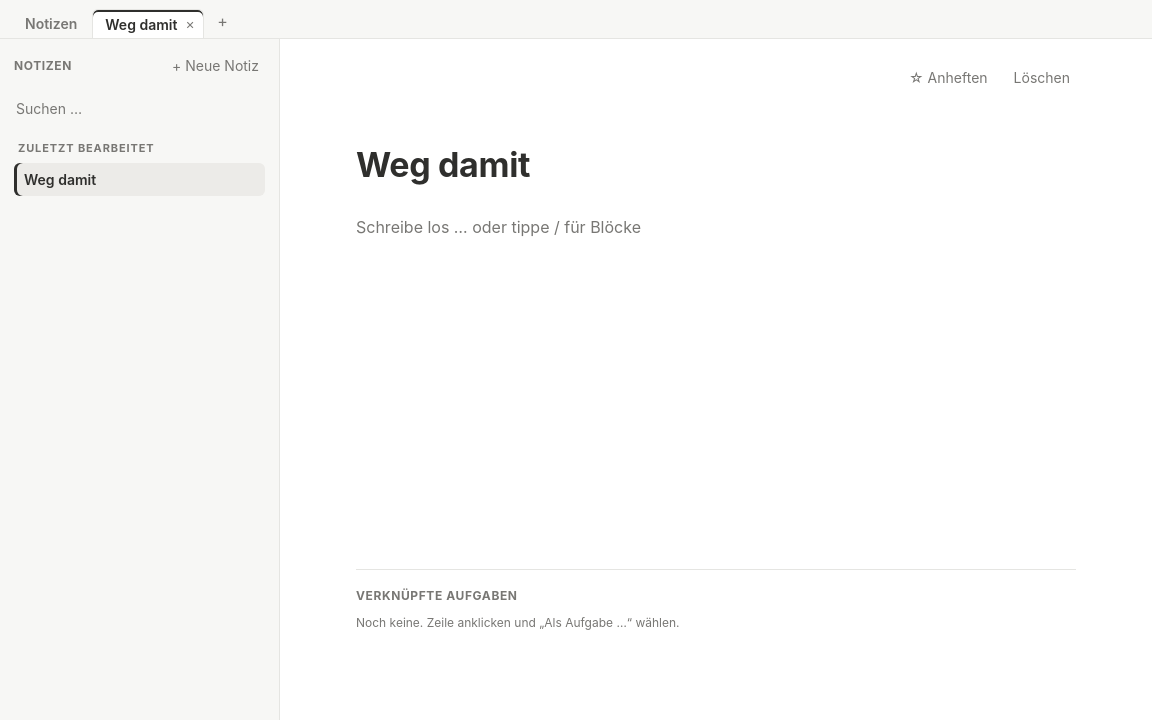
Test: NotizenView › loescht eine Notiz und stellt sie mit Rückgängig wieder her
Click the button "Löschen" at (1042, 78), box x1=1008 y1=67 x2=1076 y2=88
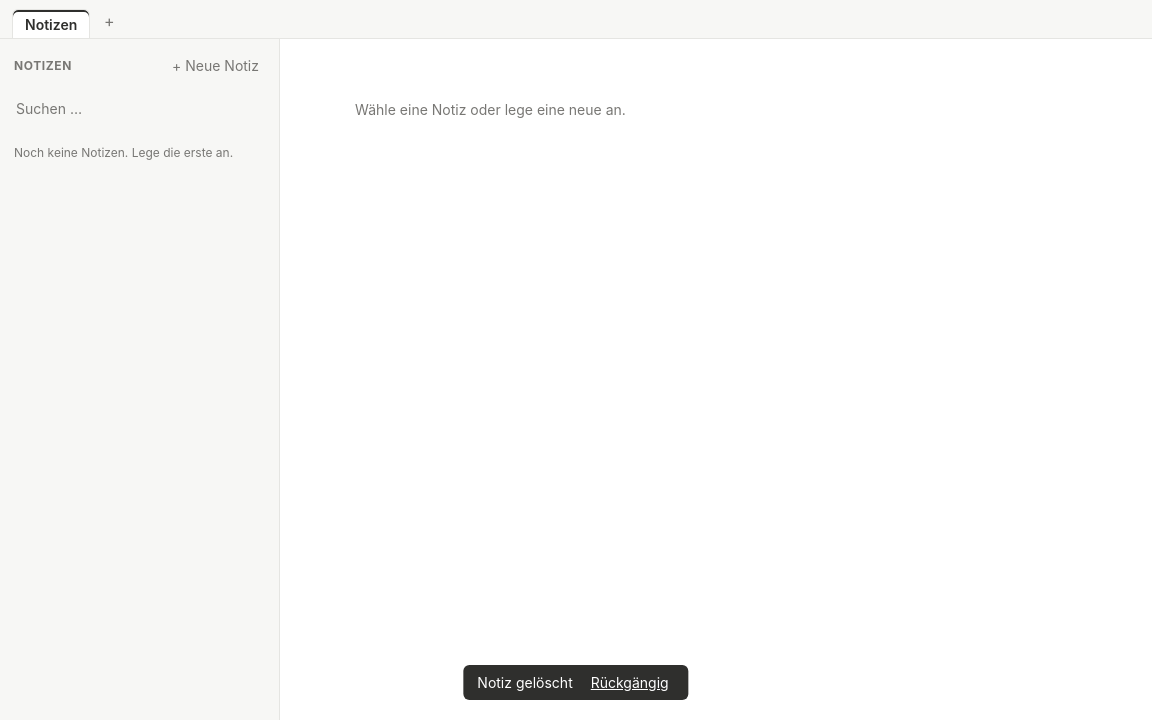
Now the message shows "Notiz gelöscht", box x1=477 y1=674 x2=573 y2=691
Now the text "Wähle eine Notiz oder lege eine neue an." is shown, box x1=355 y1=101 x2=626 y2=118
Click the button "Rückgängig" at (630, 682), box x1=585 y1=673 x2=675 y2=692
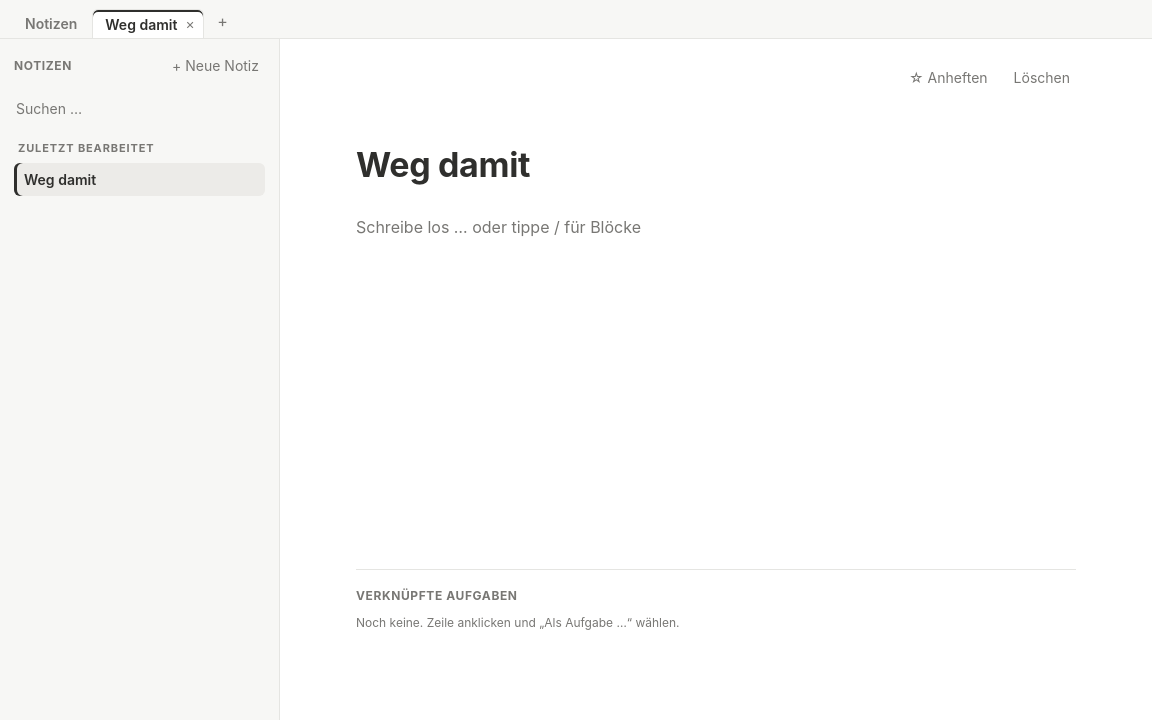
Now the field named "Titel" holds "Weg damit", box x1=356 y1=144 x2=1076 y2=186
